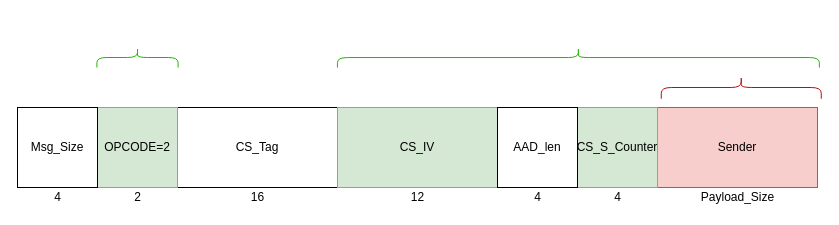
The diagram is 839 pixels wide and 225 high, and some of its shapes have lost their labels. The shapes that lost their labels are listed below. From the top down, each one's centre as x and y in pixels, then its label:
At [577,57]: "Authenticated".
At [740,87]: "Encrypted".
